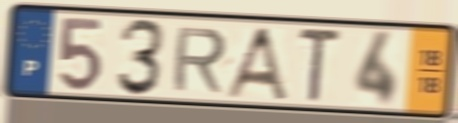3: (116, 16, 167, 98)
4: (351, 27, 402, 111)
5: (54, 16, 108, 93)
A: (220, 24, 291, 103)
R: (169, 26, 230, 95)
T: (296, 25, 344, 105)
